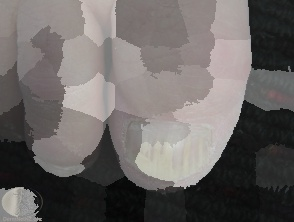Nail_psoriasis: (116, 111, 231, 190), (25, 146, 100, 181)
